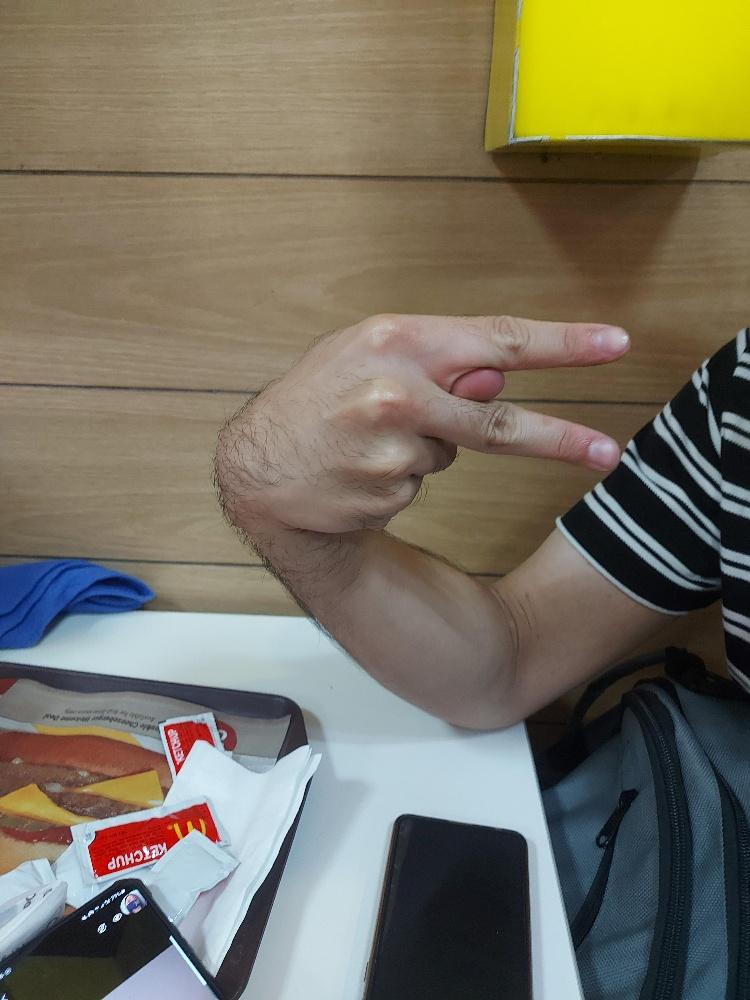k: (213, 308, 632, 539)
